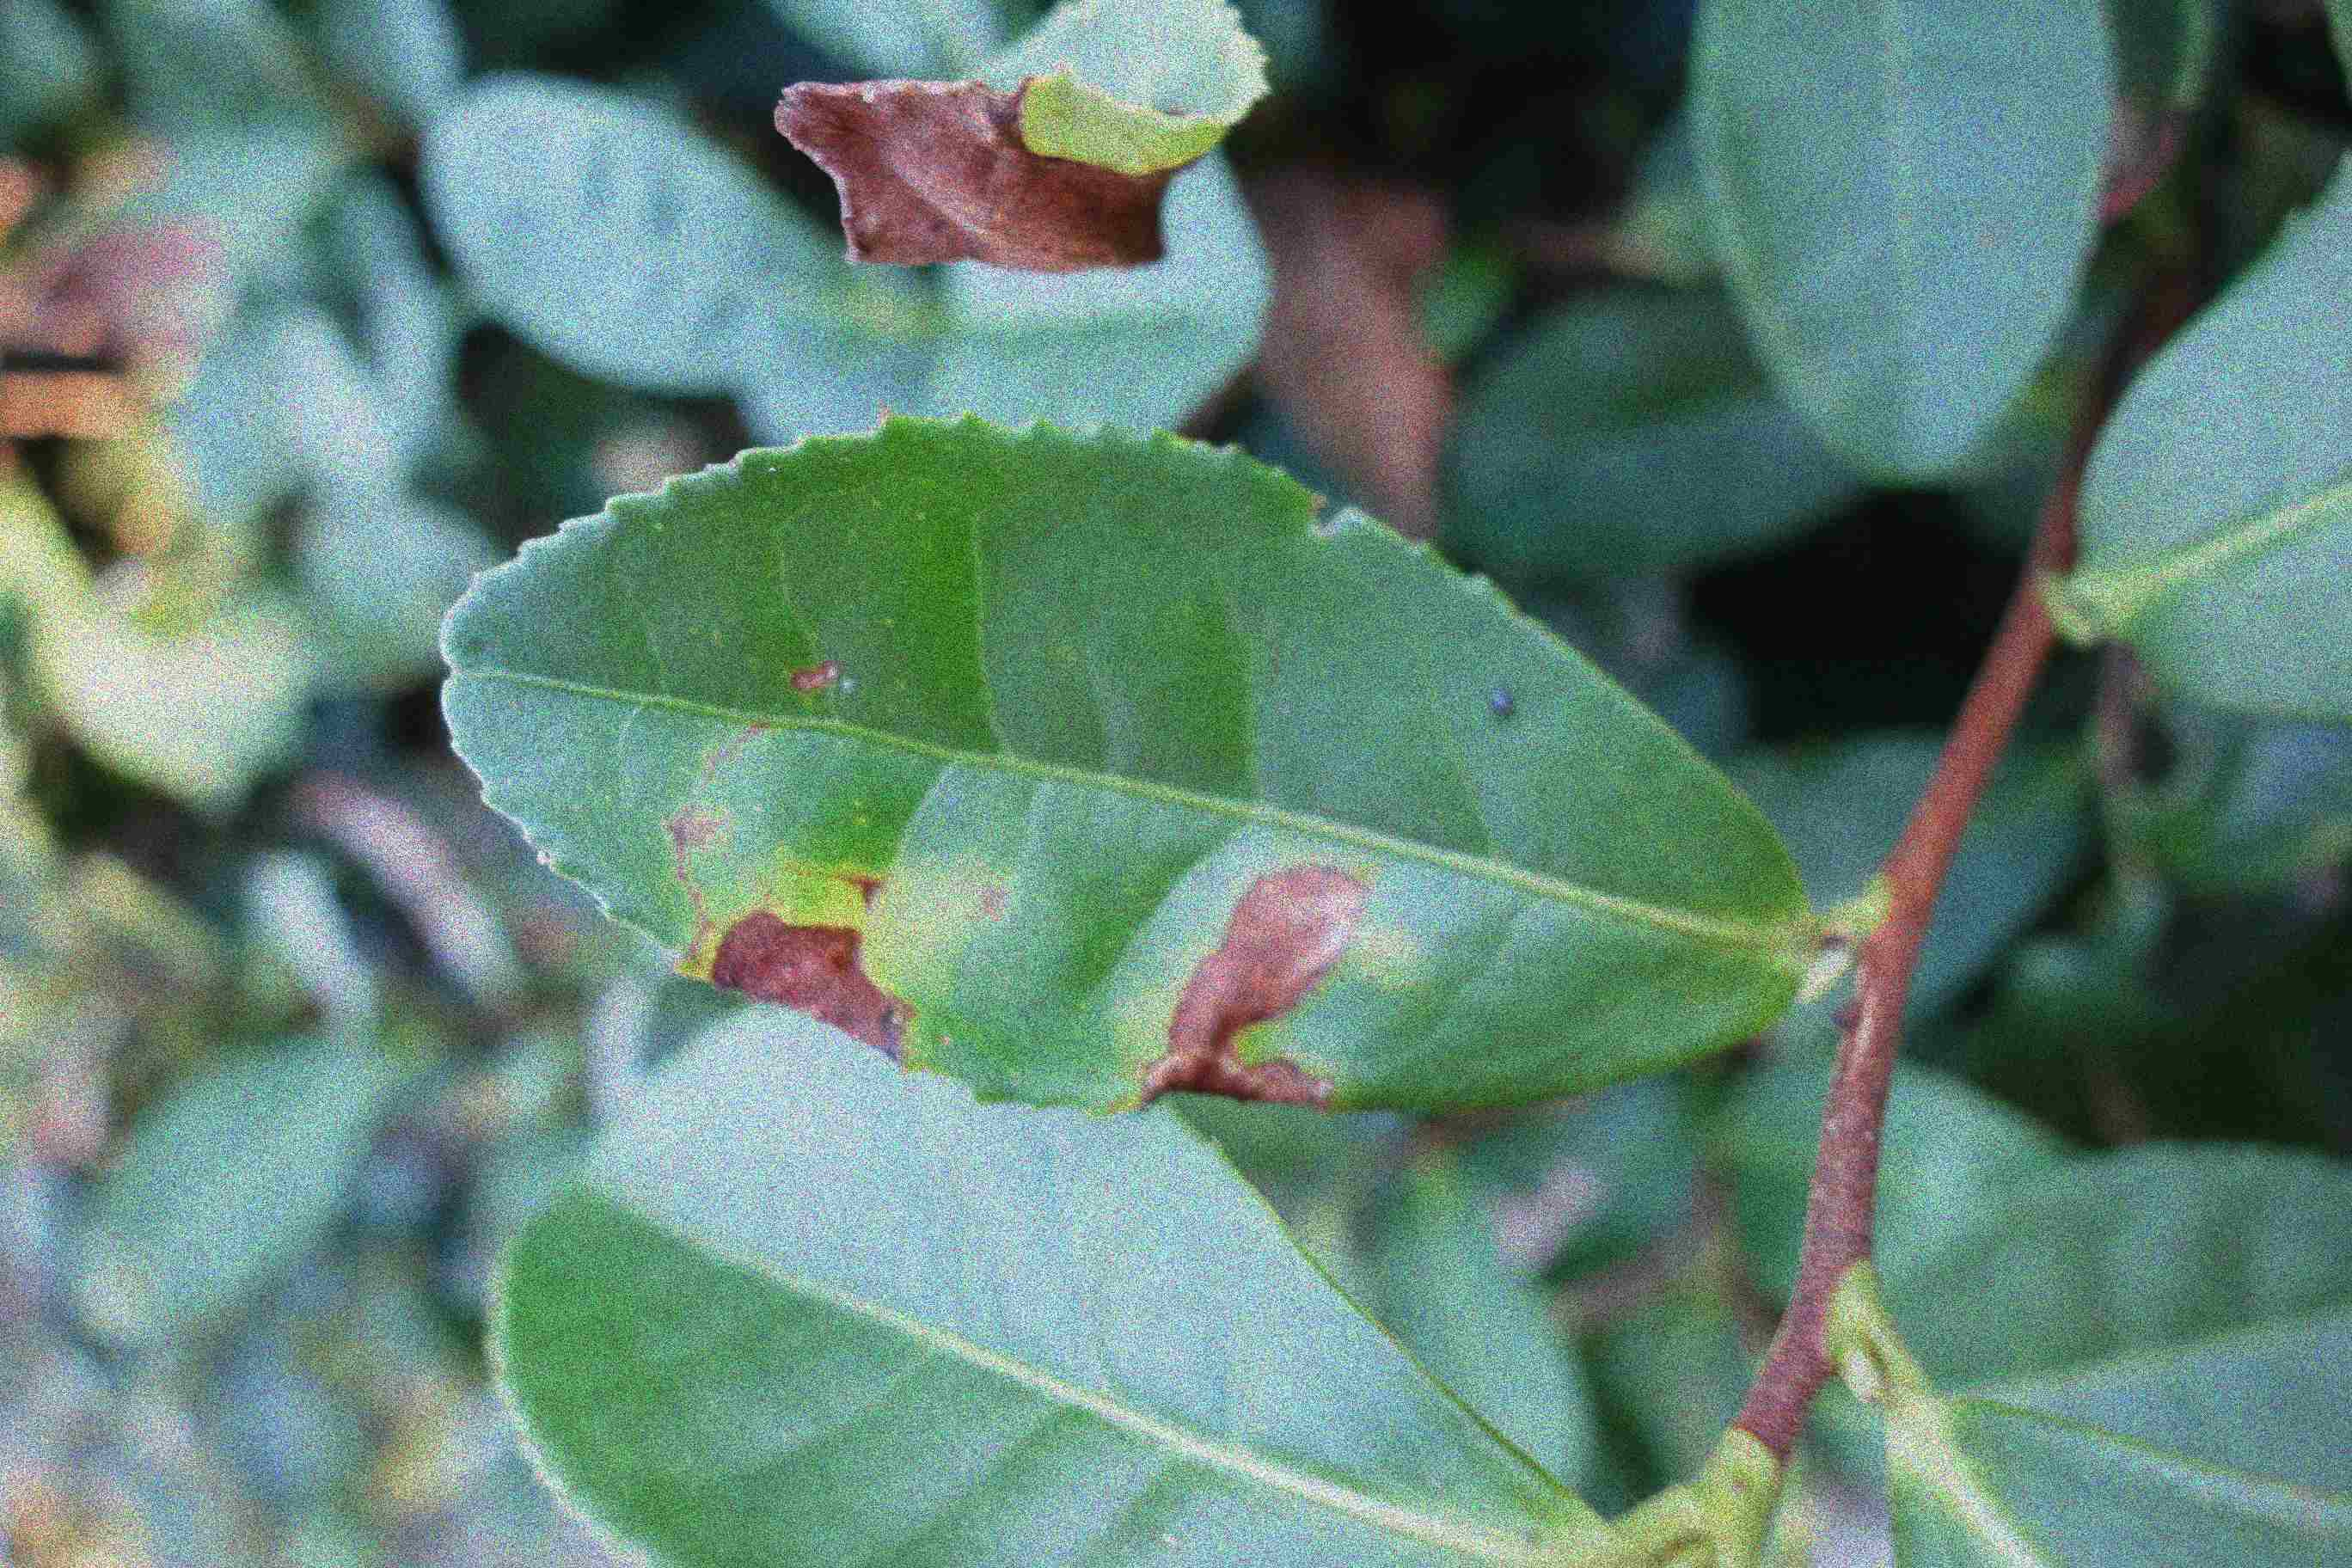tanju_high: (441, 409, 1808, 1115), (773, 5, 1269, 273)
